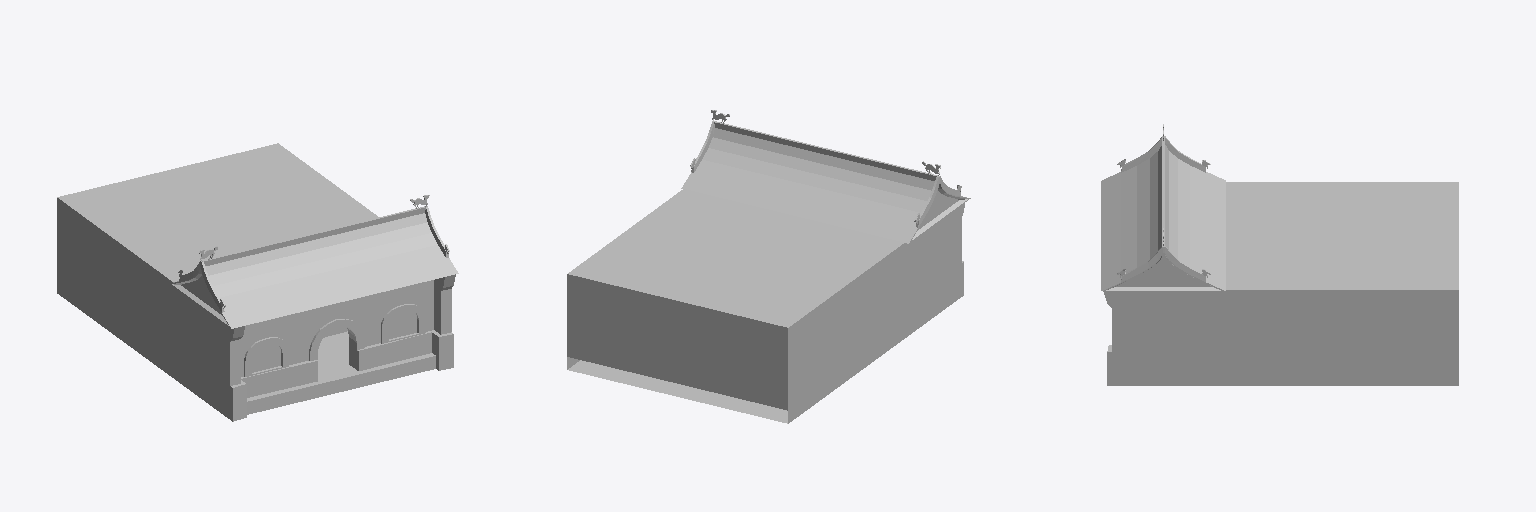
The model's file is res3.obj.
3 renders of one model, left to right at view 1: azimuth 30°, elevation 25°; view 2: azimuth 150°, elevation 25°; view 3: azimuth 270°, elevation 25°, orthographic.
Visible parts, largest first — view 1: china; view 2: china; view 3: china.
Boxes of the visible parts, x1=… form: china: x1=57, y1=143, x2=458, y2=421; china: x1=567, y1=110, x2=970, y2=423; china: x1=1101, y1=124, x2=1458, y2=385.
Bounding box in the file's own units: 1 × 0.629 × 1.34.